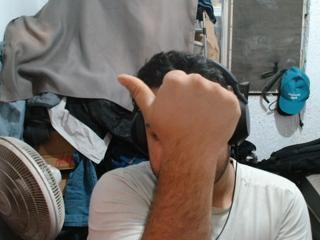Derecha: (108, 62, 252, 171)
